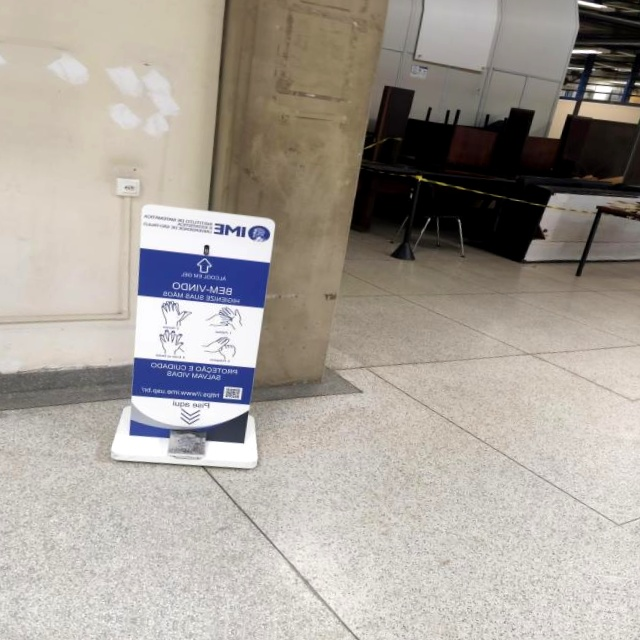qr-code: (226, 388, 240, 399)
